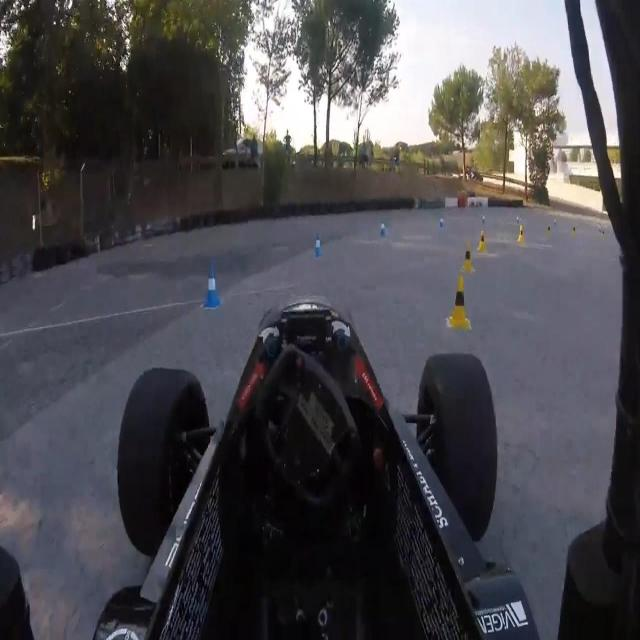blue_cone: (205, 263, 218, 309), (314, 232, 322, 258), (378, 217, 386, 238), (439, 212, 444, 230)
yellow_cone: (450, 276, 468, 330), (463, 241, 474, 275), (479, 230, 485, 252), (518, 224, 524, 243), (546, 219, 551, 238)
